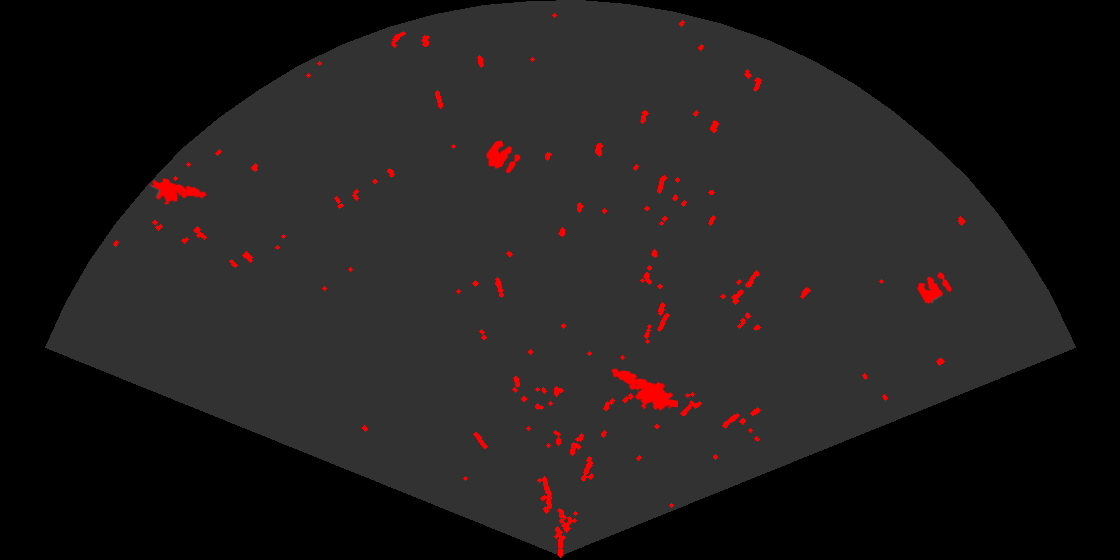ball: (485, 139, 522, 175), (916, 270, 953, 305)
frogman: (610, 367, 678, 412), (149, 176, 208, 206)
